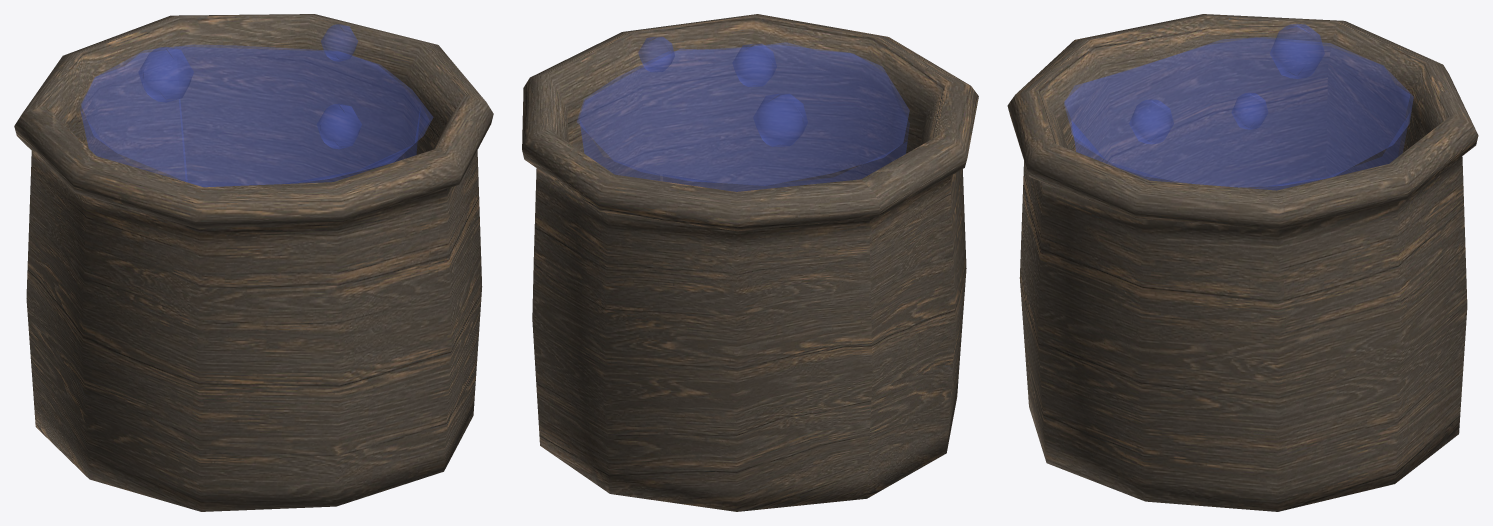
The model's file is vedro.glb.
3 renders of one model, left to right at view 1: azimuth 30°, elevation 25°; view 2: azimuth 150°, elevation 25°; view 3: azimuth 270°, elevation 25°, orthographic.
Parts seen in each view (by area): view 1: Object_2, Cylinder, Sphere, Sphere.001, Sphere.002; view 2: Object_2, Cylinder, Sphere, Sphere.001, Sphere.002; view 3: Object_2, Cylinder, Sphere, Sphere.001, Sphere.002.
Part boxes in pixels (x1,y1,x2,y2): Object_2: (14, 14, 493, 511); Cylinder: (80, 44, 432, 187); Sphere: (138, 47, 193, 102); Sphere.001: (317, 104, 361, 148); Sphere.002: (321, 24, 357, 61); Object_2: (522, 14, 978, 511); Cylinder: (577, 42, 909, 191); Sphere: (753, 94, 807, 146); Sphere.001: (732, 44, 776, 86); Sphere.002: (638, 37, 674, 71); Object_2: (1007, 14, 1478, 511); Cylinder: (1064, 37, 1413, 190); Sphere: (1270, 24, 1324, 78); Sphere.001: (1129, 99, 1173, 143); Sphere.002: (1231, 93, 1268, 129).
Bounding box in the file's own units: 4.31 × 3.85 × 4.32.
2 materials, 1 textured.
